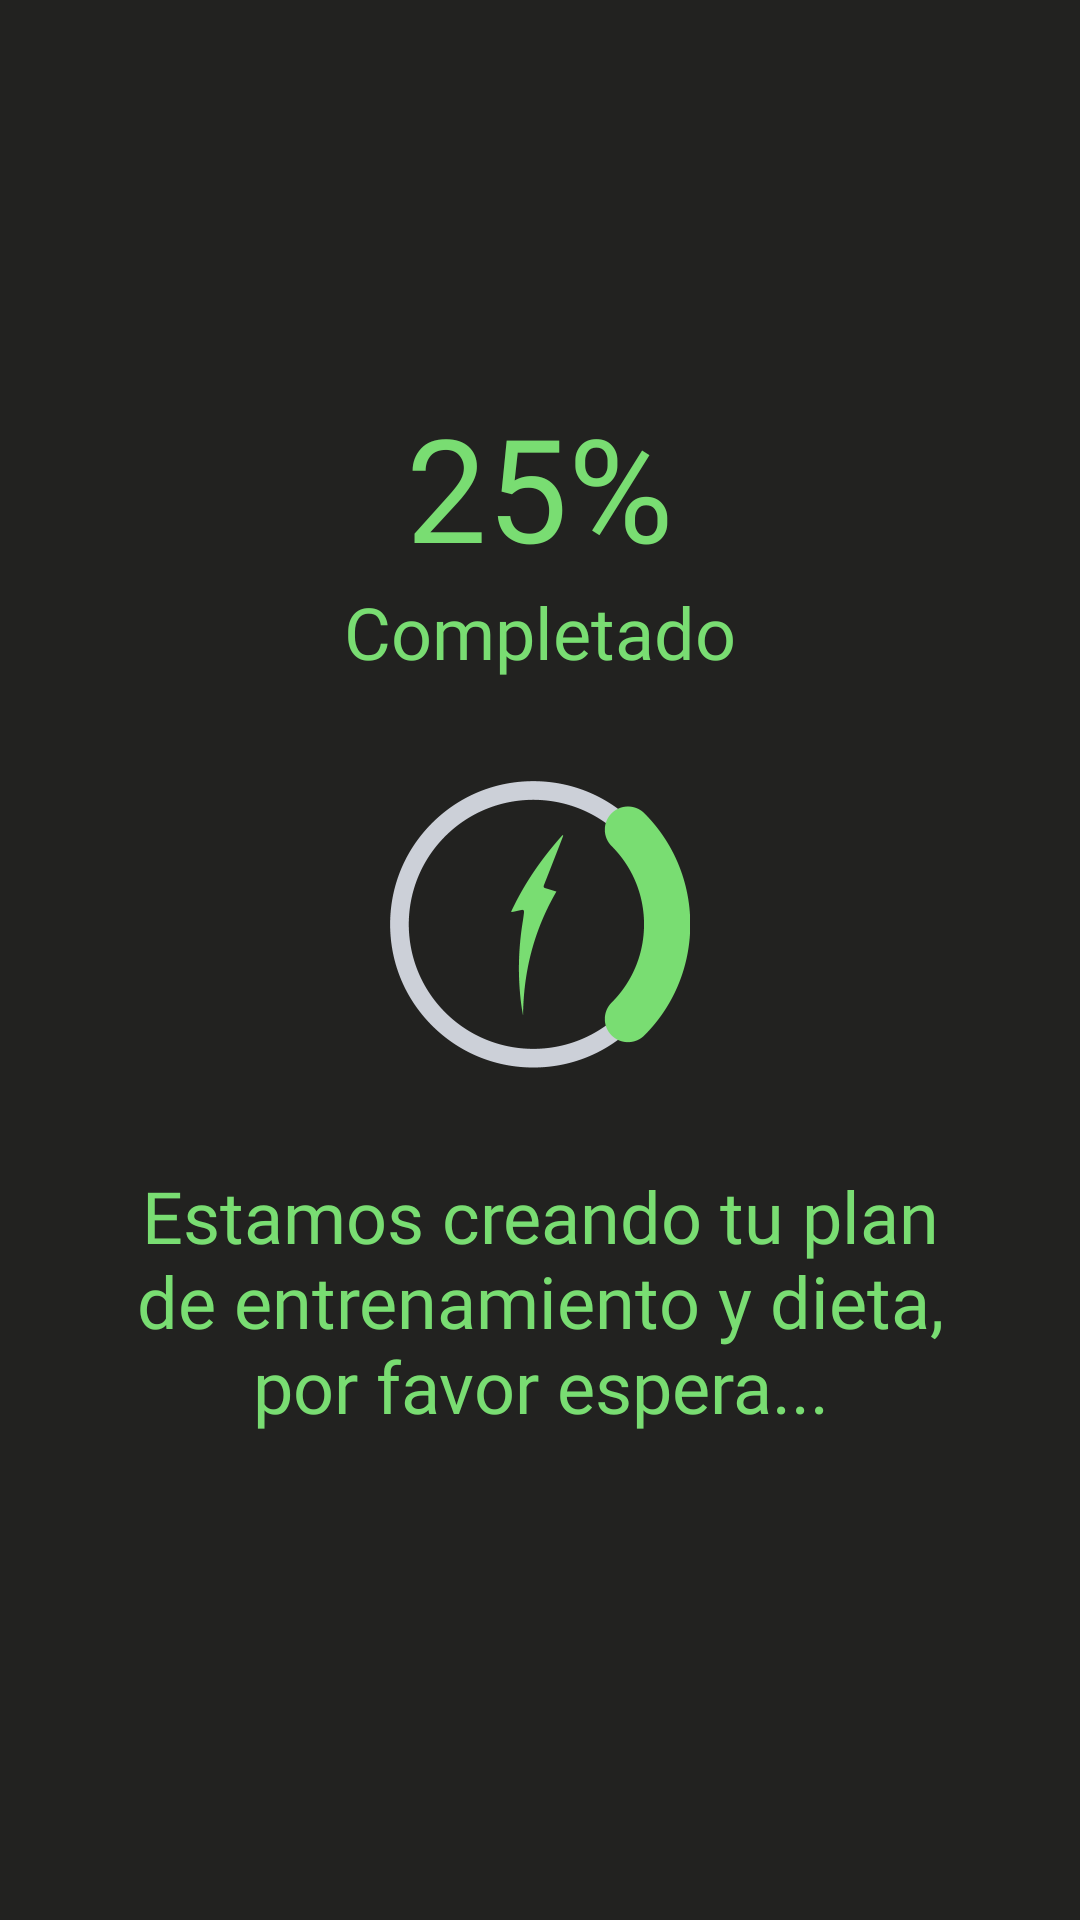

Screen size 1080×1920. Icon name, then its center in pixels as [x,y]:
cargando plan: [540,924]
